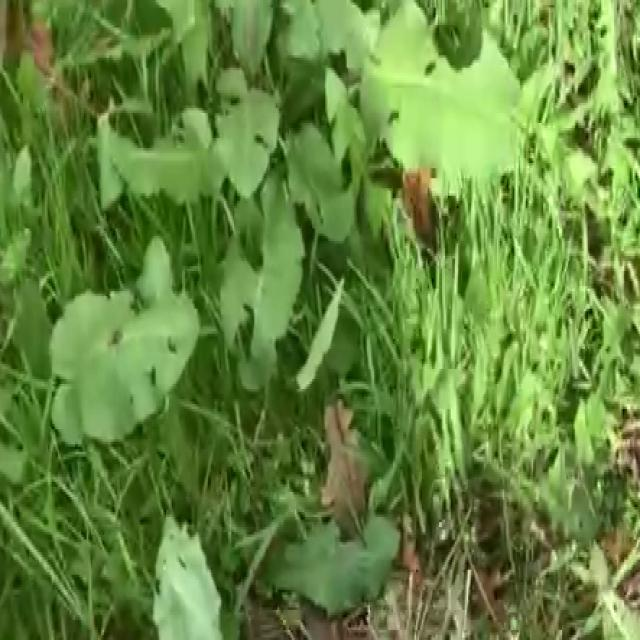organic waste: (84, 0, 521, 359), (134, 472, 400, 640), (26, 268, 202, 462)
